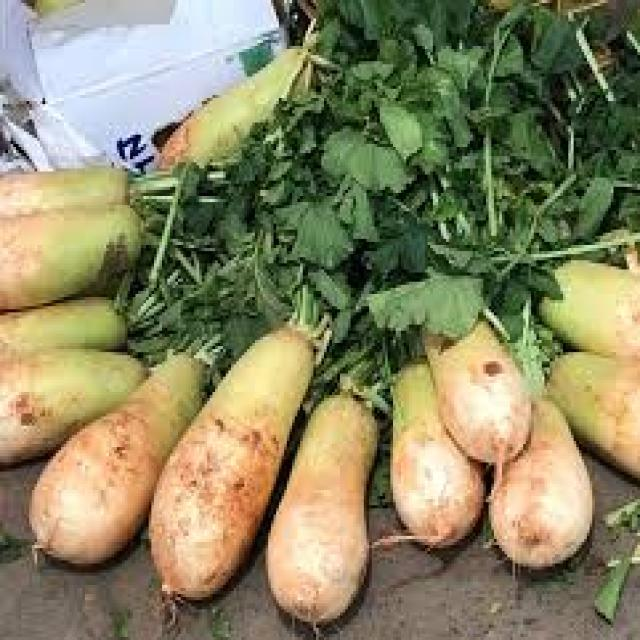Radish: (151, 303, 329, 602), (29, 355, 207, 565), (268, 395, 380, 626)
